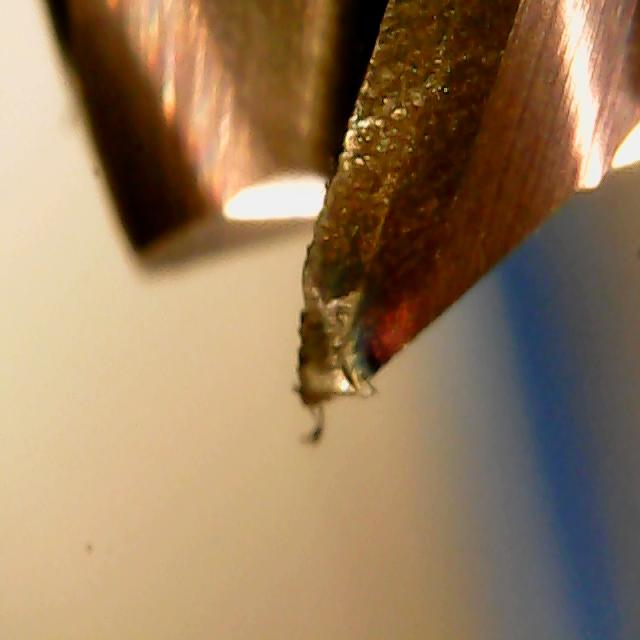Tool-wear-class-2: (276, 51, 440, 424)
